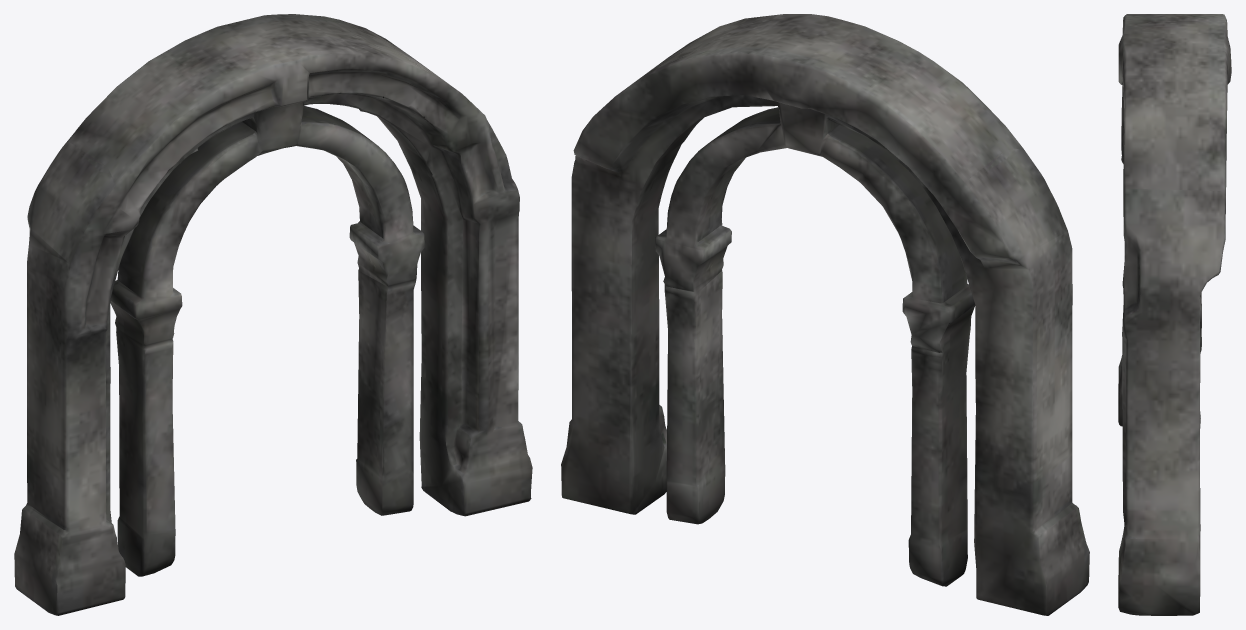
Rendered from old-granite-arched-doorway-v001.glb.
3 renders of one model, left to right at view 1: azimuth 30°, elevation 25°; view 2: azimuth 150°, elevation 25°; view 3: azimuth 270°, elevation 25°, orthographic. The views are drawn at different scales.
Parts seen in each view (by area): view 1: old-granite-arched-doorway; view 2: old-granite-arched-doorway; view 3: old-granite-arched-doorway.
Boxes of the visible parts, left/top/right/bottom form: old-granite-arched-doorway: left=14, top=14, right=532, bottom=615; old-granite-arched-doorway: left=561, top=14, right=1089, bottom=615; old-granite-arched-doorway: left=1118, top=14, right=1231, bottom=615.
Size of the model in its own units: 2.8 by 2.8 by 0.6132.
1 material, 1 textured.
